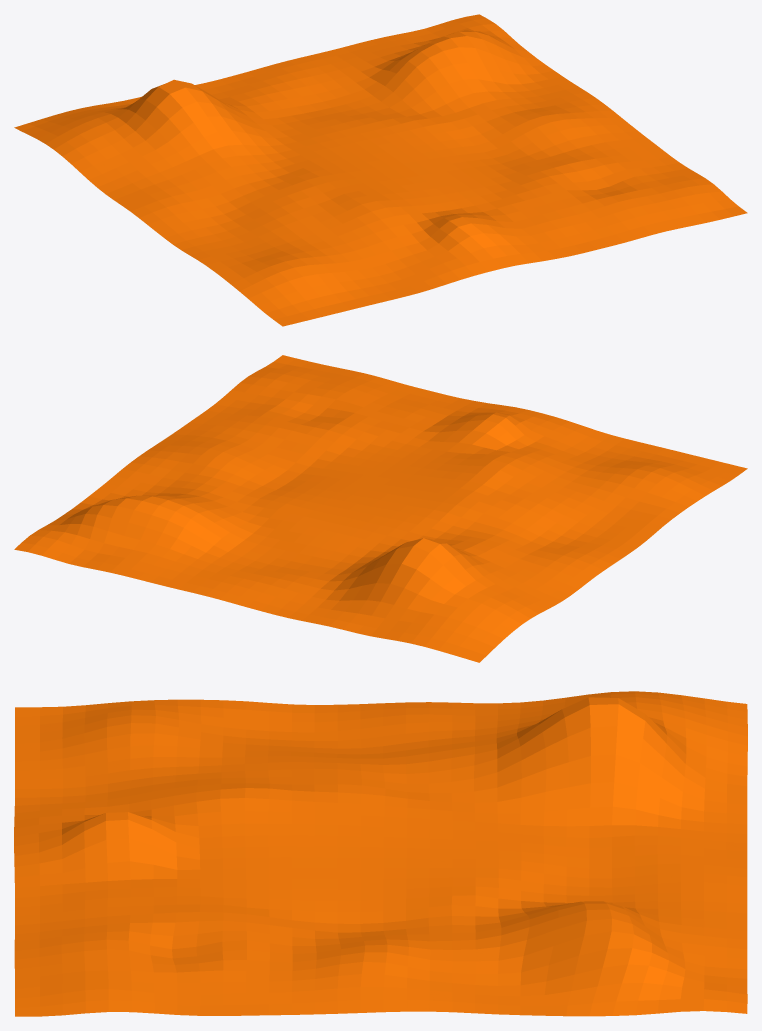
Rendered from Cave.glb.
The picture shows the model from 3 angles, top to bottom: view 1: azimuth 30°, elevation 25°; view 2: azimuth 150°, elevation 25°; view 3: azimuth 270°, elevation 25°; orthographic projection. The views are drawn at different scales.
Parts seen in each view (by area): view 1: Plane; view 2: Plane; view 3: Plane.
Part boxes in pixels (<box>): Plane: <box>14,14,747,326</box>; Plane: <box>14,355,747,662</box>; Plane: <box>14,691,747,1016</box>.
Size of the model in its own units: 60.25 by 7.06 by 60.14.
